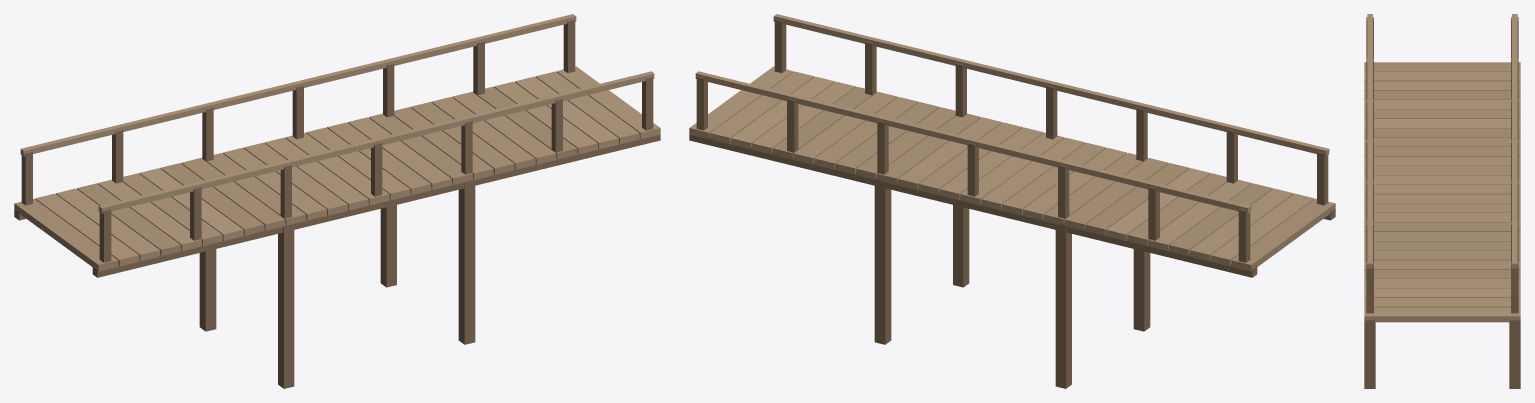
The model's file is bridge.glb.
The picture shows the model from 3 angles, left to right: view 1: azimuth 30°, elevation 25°; view 2: azimuth 150°, elevation 25°; view 3: azimuth 270°, elevation 25°; orthographic projection. The views are drawn at different scales.
Visible parts, largest first — view 1: bridge; view 2: bridge; view 3: bridge.
Part boxes in pixels (left/top/right/bottom): bridge: left=14, top=14, right=660, bottom=388; bridge: left=689, top=14, right=1335, bottom=388; bridge: left=1364, top=14, right=1520, bottom=388.
Bounding box in the file's own units: 10.8 × 4.1 × 2.8.
